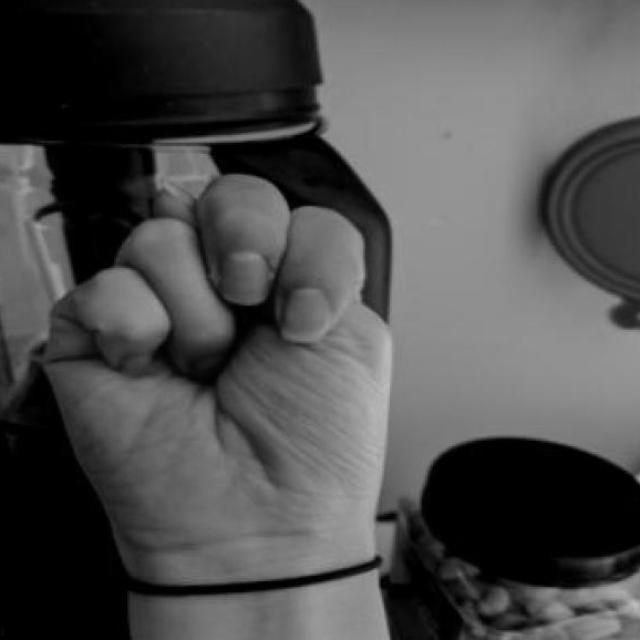N: (31, 155, 434, 610)
